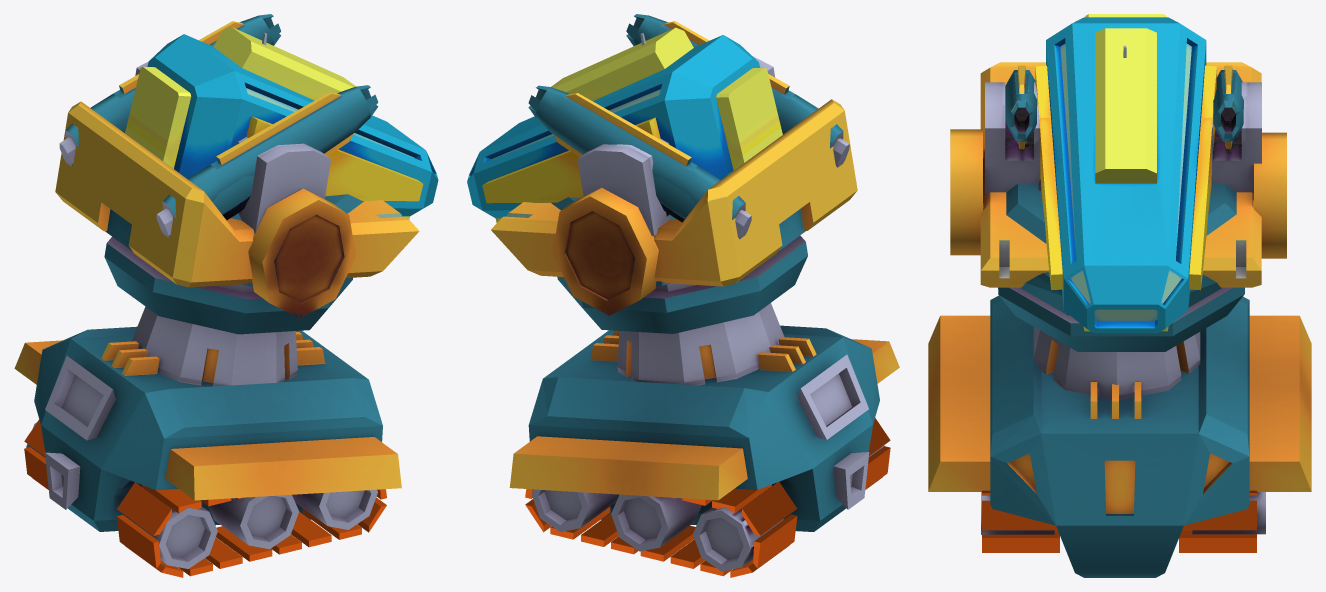
File: Player_moving_upgrade16.obj
3 renders of one model, left to right at view 1: azimuth 30°, elevation 25°; view 2: azimuth 150°, elevation 25°; view 3: azimuth 270°, elevation 25°, orthographic. The views are drawn at different scales.
Visible parts, largest first — view 1: Object015, Object014, Box009, Box017, Box016; view 2: Object015, Object014, Box009, Box016, Box017; view 3: Object015, Object014, Box017, Box016, Box009.
Part boxes in pixels (box(x1,y1,x2,y2)): Object015: box(14, 27, 438, 531); Object014: box(59, 14, 378, 237); Box009: box(26, 422, 377, 568); Box017: box(117, 482, 386, 577); Box016: box(24, 419, 48, 489); Object015: box(467, 27, 899, 531); Object014: box(528, 14, 849, 239); Box009: box(531, 445, 884, 571); Box016: box(525, 482, 797, 577); Box017: box(865, 418, 890, 489); Object015: box(928, 14, 1311, 577); Object014: box(1005, 65, 1243, 149); Box017: box(982, 490, 1059, 552); Box016: box(1179, 490, 1256, 552); Box009: box(981, 492, 1265, 534).
Size of the model in its own units: 70.38 by 88.9 by 59.78.
Materials: 5 (3 with a texture image).
